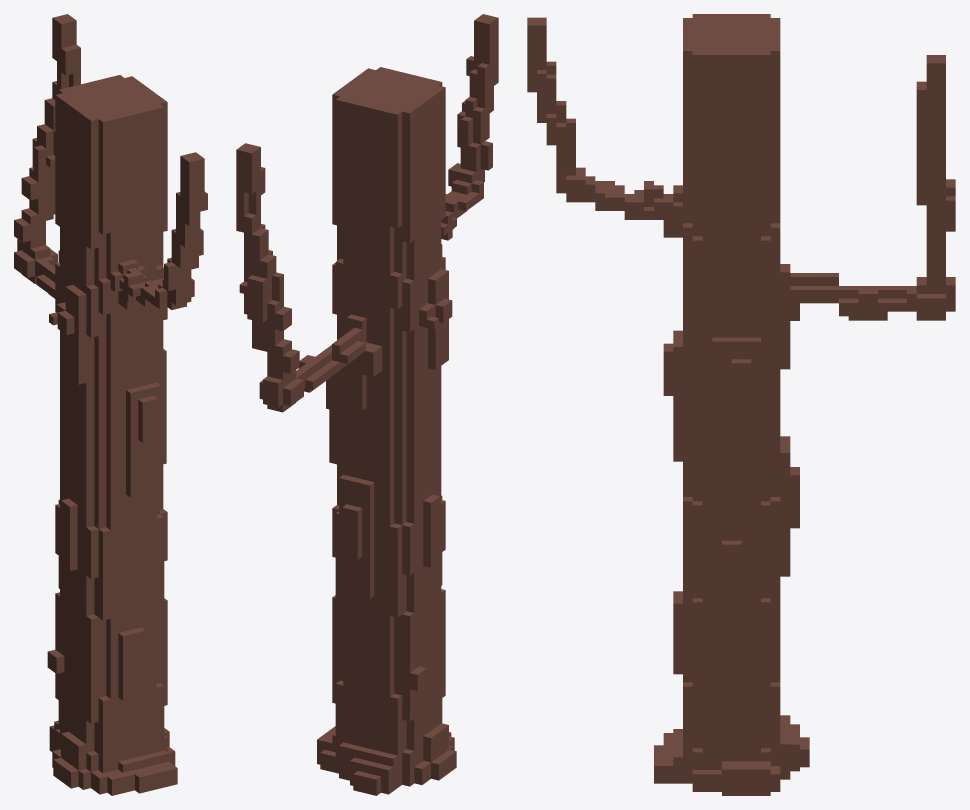
The model's file is trunk_3.glb.
3 views of the same model, side by side, from view 1: azimuth 30°, elevation 25°; view 2: azimuth 150°, elevation 25°; view 3: azimuth 270°, elevation 25° (orthographic). The views are drawn at different scales.
Parts seen in each view (by area): view 1: trunk_3; view 2: trunk_3; view 3: trunk_3.
Boxes of the visible parts, x1,y1,x2,y2 form: trunk_3: (14,14,207,795); trunk_3: (236,14,498,795); trunk_3: (527,14,955,795).
Size of the model in its own units: 1.4 by 8.4 by 4.4.
1 material, 1 textured.
